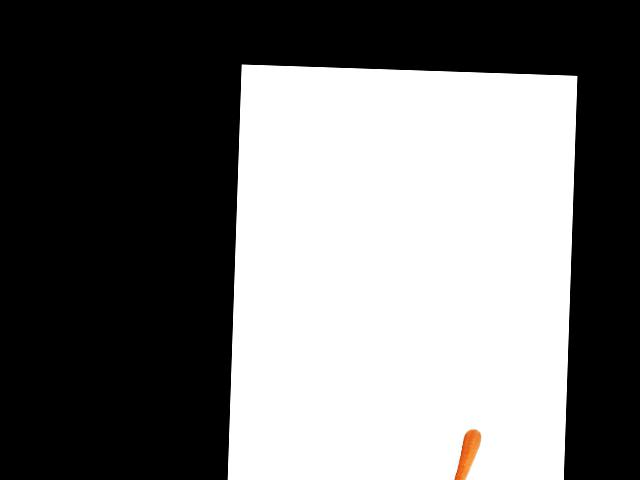carrot: (448, 414, 483, 480)
